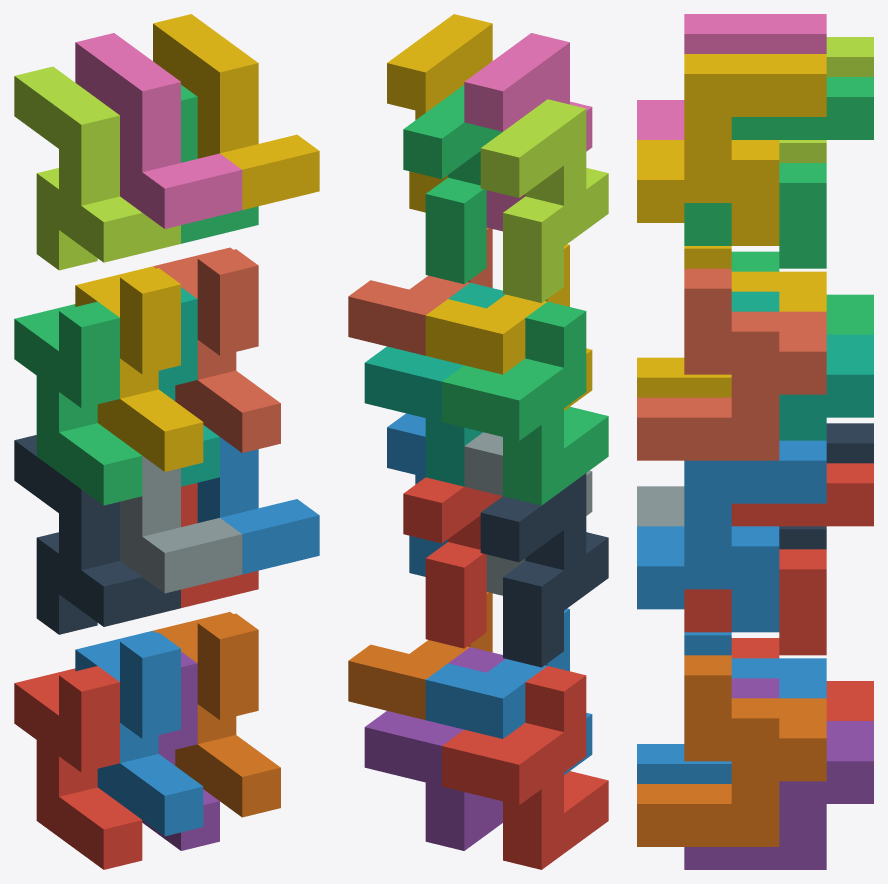
Rendered from tiling.obj.
3 renders of one model, left to right at view 1: azimuth 30°, elevation 25°; view 2: azimuth 150°, elevation 25°; view 3: azimuth 270°, elevation 25°, orthographic. The views are drawn at different scales.
Visible parts, largest first — view 1: copy_2_domain_3, copy_1_domain_3, copy_1_domain_1, copy_2_domain_4, copy_2_domain_1, copy_2_domain_8, copy_1_domain_4, copy_1_domain_2, copy_1_domain_6, copy_1_domain_8, copy_2_domain_2, copy_2_domain_6 (+4 smaller); view 2: copy_1_domain_3, copy_1_domain_1, copy_2_domain_3, copy_2_domain_1, copy_2_domain_7, copy_2_domain_5, copy_1_domain_5, copy_2_domain_4, copy_1_domain_7, copy_2_domain_8, copy_1_domain_4, copy_1_domain_2 (+4 smaller); view 3: copy_1_domain_8, copy_1_domain_6, copy_2_domain_8, copy_2_domain_6, copy_2_domain_5, copy_2_domain_7, copy_1_domain_5, copy_2_domain_4, copy_1_domain_7, copy_1_domain_4, copy_1_domain_2, copy_2_domain_1 (+4 smaller).
Boxes of the visible parts, box(x1,y1,x2,y2) form: copy_2_domain_3: box(14, 66, 180, 270); copy_1_domain_3: box(14, 301, 142, 505); copy_1_domain_1: box(14, 666, 142, 869); copy_2_domain_4: box(75, 33, 242, 228); copy_2_domain_1: box(14, 435, 180, 634); copy_2_domain_8: box(153, 14, 319, 209); copy_1_domain_4: box(75, 266, 203, 471); copy_1_domain_2: box(75, 630, 203, 836); copy_1_domain_6: box(153, 612, 280, 817); copy_1_domain_8: box(153, 247, 280, 452); copy_2_domain_2: box(120, 456, 242, 593); copy_2_domain_6: box(197, 437, 319, 574); copy_1_domain_3: box(442, 301, 608, 505); copy_1_domain_1: box(442, 666, 608, 869); copy_2_domain_3: box(480, 99, 608, 302); copy_2_domain_1: box(480, 473, 608, 667); copy_2_domain_7: box(403, 85, 502, 284); copy_2_domain_5: box(403, 477, 502, 648); copy_1_domain_5: box(364, 647, 505, 850); copy_2_domain_4: box(464, 33, 592, 231); copy_1_domain_7: box(364, 282, 505, 486); copy_2_domain_8: box(387, 14, 492, 212); copy_1_domain_4: box(425, 244, 592, 410); copy_1_domain_2: box(425, 608, 592, 774); copy_1_domain_8: box(637, 268, 826, 460); copy_1_domain_6: box(637, 655, 826, 846); copy_2_domain_8: box(637, 54, 826, 245); copy_2_domain_6: box(637, 440, 826, 632); copy_2_domain_5: box(684, 463, 873, 655); copy_2_domain_7: box(684, 77, 873, 268); copy_1_domain_5: box(684, 678, 873, 869); copy_2_domain_4: box(637, 14, 826, 139); copy_1_domain_7: box(731, 291, 873, 440); copy_1_domain_4: box(637, 246, 826, 397); copy_1_domain_2: box(637, 632, 826, 783); copy_2_domain_1: box(779, 423, 873, 549).
Bounding box in the file's own units: 5 × 19 × 5.
